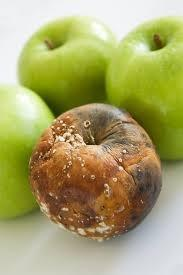Grape Rotten: (28, 102, 162, 242), (106, 15, 183, 161), (17, 15, 116, 116), (0, 82, 55, 220)
